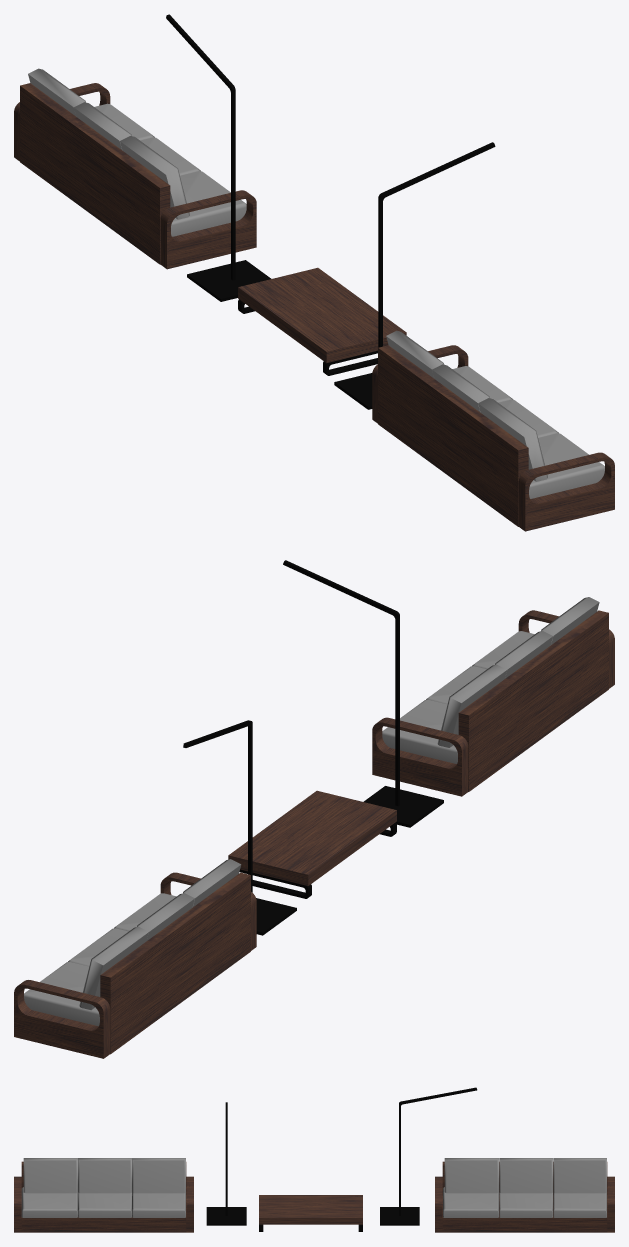
Rendered from Roof_living.glb.
3 renders of one model, top to bottom at view 1: azimuth 30°, elevation 25°; view 2: azimuth 150°, elevation 25°; view 3: azimuth 270°, elevation 25°, orthographic. The views are drawn at different scales.
Parts seen in each view (by area): view 1: Cube.001, Cube.004, Cube.006, Cube.003, Cube.005, Plane.001, seat_3_lambert1_0, seat_3_lambert1_0.001, Plane.002, rest_3_lambert1_0, rest_3_lambert1_0.001, rest_1_lambert1_0 (+8 smaller); view 2: Cube.004, Cube.001, Cube.006, Cube.005, Cube.003, Plane.002, seat_1_lambert1_0.001, seat_1_lambert1_0, Plane.001, rest_1_lambert1_0.001, rest_1_lambert1_0, rest_3_lambert1_0 (+8 smaller); view 3: Cube.006, Cube.004, Cube.001, rest_3_lambert1_0, rest_3_lambert1_0.001, rest_1_lambert1_0, rest_2_lambert1_0, rest_1_lambert1_0.001, rest_2_lambert1_0.001, seat_3_lambert1_0, seat_3_lambert1_0.001, seat_1_lambert1_0 (+7 smaller).
Boxes of the visible parts, x1=… form: Cube.001: x1=378, y1=345, x2=593, y2=526; Cube.004: x1=20, y1=83, x2=226, y2=264; Cube.006: x1=238, y1=267, x2=406, y2=363; Cube.003: x1=372, y1=345, x2=614, y2=531; Cube.005: x1=14, y1=83, x2=256, y2=269; Plane.001: x1=166, y1=14, x2=271, y2=301; seat_3_lambert1_0: x1=529, y1=433, x2=604, y2=498; seat_3_lambert1_0.001: x1=171, y1=171, x2=246, y2=236; Plane.002: x1=334, y1=142, x2=495, y2=409; rest_3_lambert1_0: x1=478, y1=398, x2=547, y2=481; rest_3_lambert1_0.001: x1=120, y1=136, x2=189, y2=219; rest_1_lambert1_0: x1=386, y1=330, x2=444, y2=378; Cube.004: x1=34, y1=872, x2=250, y2=1054; Cube.001: x1=393, y1=610, x2=608, y2=791; Cube.006: x1=228, y1=790, x2=396, y2=885; Cube.005: x1=14, y1=872, x2=256, y2=1058; Cube.003: x1=372, y1=610, x2=614, y2=796; Plane.002: x1=283, y1=560, x2=443, y2=827; seat_1_lambert1_0.001: x1=24, y1=962, x2=99, y2=1026; seat_1_lambert1_0: x1=382, y1=699, x2=457, y2=763; Plane.001: x1=183, y1=720, x2=296, y2=935; rest_1_lambert1_0.001: x1=79, y1=926, x2=148, y2=1010; rest_1_lambert1_0: x1=437, y1=664, x2=506, y2=747; rest_3_lambert1_0: x1=541, y1=597, x2=599, y2=644; Cube.006: x1=259, y1=1195, x2=362, y2=1224; Cube.004: x1=442, y1=1161, x2=607, y2=1232; Cube.001: x1=21, y1=1161, x2=186, y2=1232; rest_3_lambert1_0: x1=23, y1=1158, x2=77, y2=1193; rest_3_lambert1_0.001: x1=444, y1=1158, x2=498, y2=1193; rest_1_lambert1_0: x1=132, y1=1158, x2=185, y2=1193; rest_2_lambert1_0: x1=78, y1=1158, x2=131, y2=1193; rest_1_lambert1_0.001: x1=553, y1=1158, x2=606, y2=1193; rest_2_lambert1_0.001: x1=499, y1=1158, x2=552, y2=1193; seat_3_lambert1_0: x1=21, y1=1187, x2=77, y2=1217; seat_3_lambert1_0.001: x1=443, y1=1187, x2=498, y2=1217; seat_1_lambert1_0: x1=132, y1=1192, x2=185, y2=1217.
Size of what is drawn, in the model's own units: 2.56 by 3.56 by 15.01.
4 materials, 4 textured.
